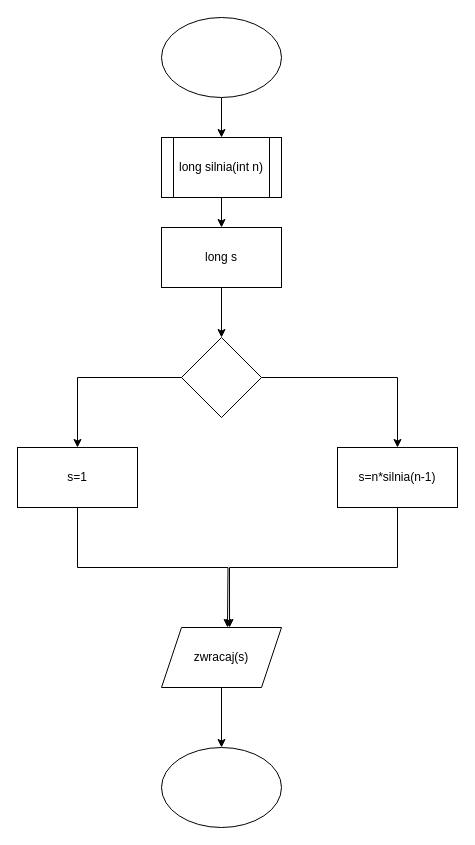
Some shapes in this 475 by 845 pixel diagram are drawn without their labels. Each missing label, with the centre of its shape:
n==0: (221,377)
Start: (221,57)
stop: (221,787)
